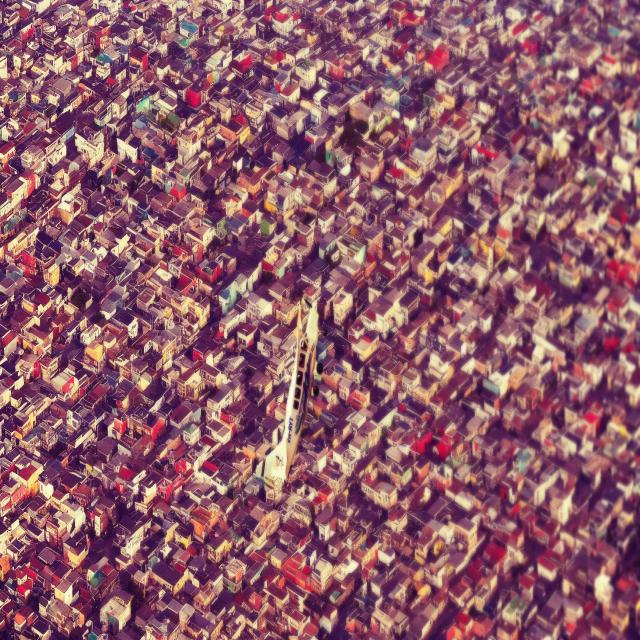airplane: (253, 299, 320, 503)
